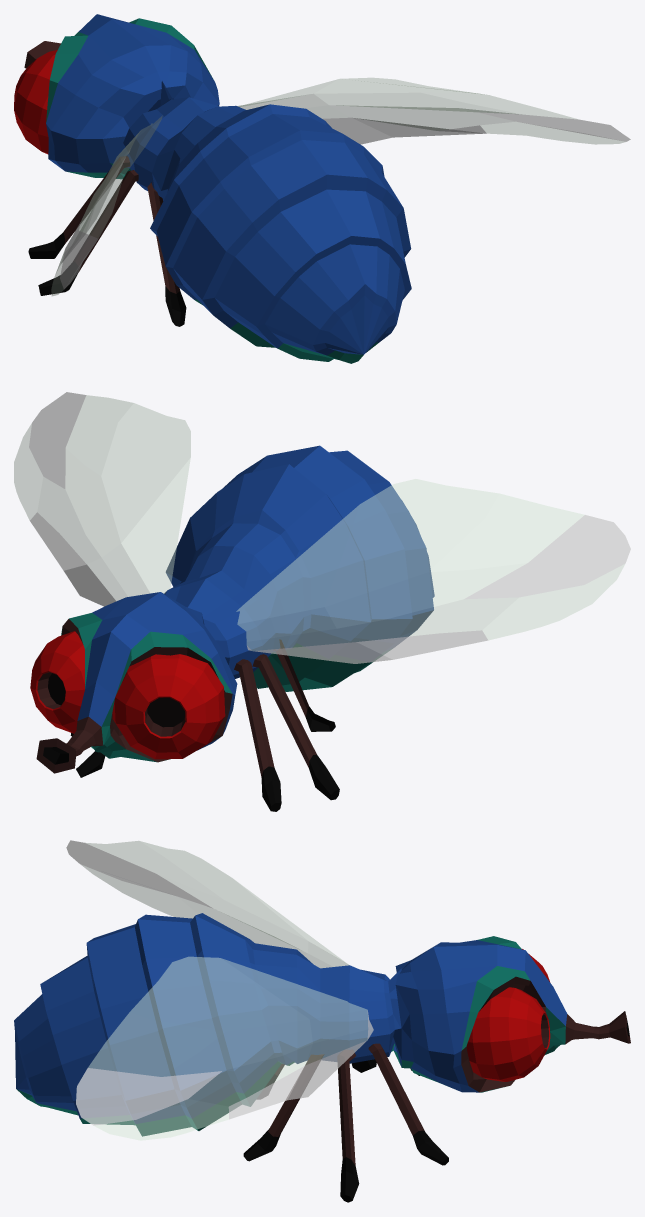
File: fly2-animation.gltf
The picture shows the model from 3 angles, top to bottom: view 1: azimuth 30°, elevation 25°; view 2: azimuth 150°, elevation 25°; view 3: azimuth 270°, elevation 25°; orthographic projection. The views are drawn at different scales.
Parts seen in each view (by area): view 1: Object_2, wing-right, wing-left, Object_5, Object_3, Object_9, Object_4; view 2: Object_2, wing-left, wing-right, Object_9, Object_5, Object_3, Object_4; view 3: Object_2, wing-right, wing-left, Object_5, Object_9, Object_3, Object_4.
Boxes of the visible parts, left/top/right/bottom form: Object_2: left=46, top=14, right=411, bottom=355; wing-right: left=237, top=78, right=630, bottom=144; wing-left: left=51, top=116, right=162, bottom=295; Object_5: left=24, top=41, right=180, bottom=293; Object_3: left=46, top=18, right=378, bottom=363; Object_9: left=14, top=49, right=57, bottom=154; Object_4: left=28, top=232, right=186, bottom=326; Object_2: left=77, top=445, right=434, bottom=750; wing-left: left=236, top=479, right=630, bottom=663; wing-right: left=14, top=392, right=190, bottom=606; Object_9: left=30, top=631, right=225, bottom=759; Object_5: left=36, top=619, right=316, bottom=777; Object_3: left=61, top=613, right=391, bottom=762; Object_4: left=43, top=673, right=339, bottom=811; Object_2: left=14, top=913, right=567, bottom=1123; wing-right: left=76, top=957, right=373, bottom=1140; wing-left: left=66, top=840, right=349, bottom=967; Object_5: left=268, top=976, right=630, bottom=1165; Object_9: left=466, top=949, right=550, bottom=1081; Object_3: left=16, top=936, right=565, bottom=1136; Object_4: left=243, top=1020, right=629, bottom=1202.
Size of the model in its own units: 2.95 by 1.23 by 2.9.
